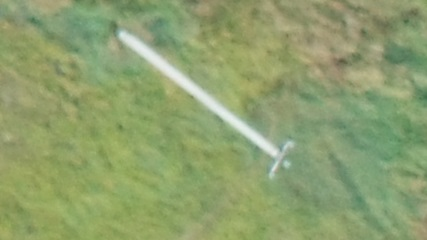opora: (117, 27, 297, 180)
